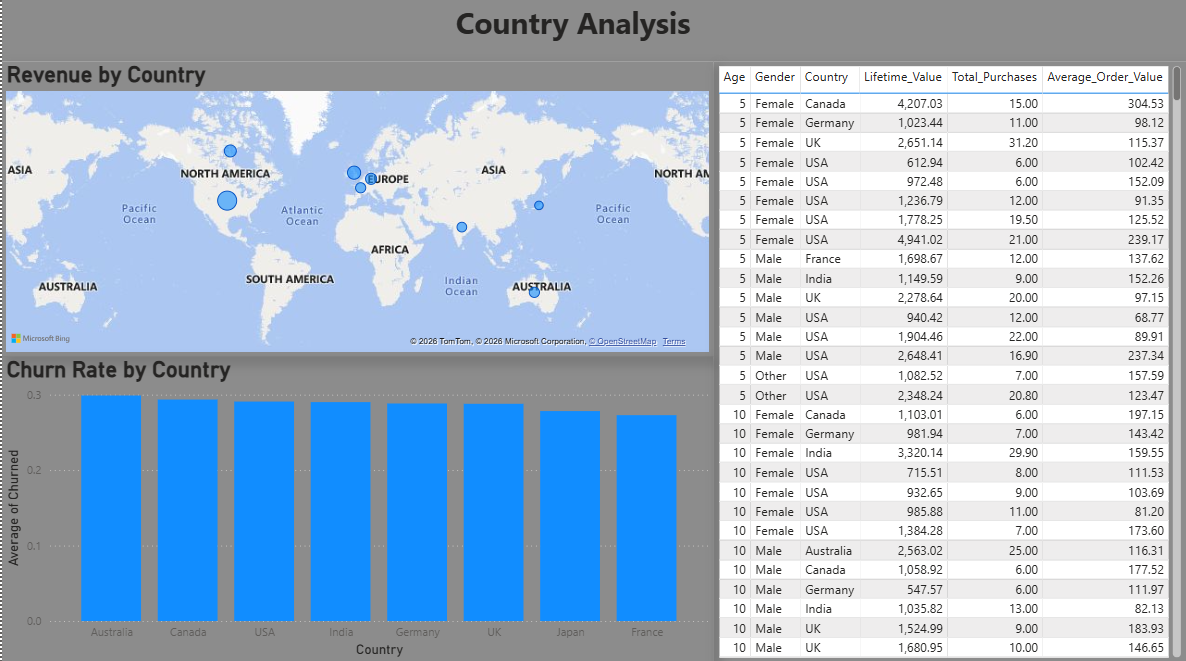

Layout of this report page (visuals, bound fields, positions):
{"tool":"powerbi","page":{"name":"Page 4","canvas":[1280,720],"ordinal":3},"visuals":[{"type":"textbox","box":[0,0,1279.7,68.9],"z":0},{"type":"map","title":"Revenue by Country","fields":{"Category":["ecommerc.Country"],"Size":["Sum(ecommerc.Lifetime_Value)"]},"box":[0,68.9,768.9,318.9],"z":1},{"type":"clusteredColumnChart","title":"Churn Rate by Country","fields":{"Category":["ecommerc.Country"],"Y":["Avg(ecommerc.Churned)"]},"box":[0,387.8,768.9,329.7],"z":2},{"type":"tableEx","fields":{"Values":["ecommerc.Age","ecommerc.Gender","ecommerc.Country","ecommerc.Lifetime_Value","ecommerc.Total_Purchases","ecommerc.Average_Order_Value"]},"box":[768.9,68.9,510.8,648.6],"z":3}]}

Visuals, with their boxes in screenshot pixels (x1, y1, x2, y2), scaled from the page's 1280x720 canvas onto the 1186x661 screenshot:
textbox: [x1=0, y1=0, x2=1185, y2=63]
"Revenue by Country" map: [x1=0, y1=63, x2=712, y2=356]
"Churn Rate by Country" clusteredColumnChart: [x1=0, y1=356, x2=712, y2=659]
tableEx - ecommerc.Age x ecommerc.Gender: [x1=712, y1=63, x2=1185, y2=659]
